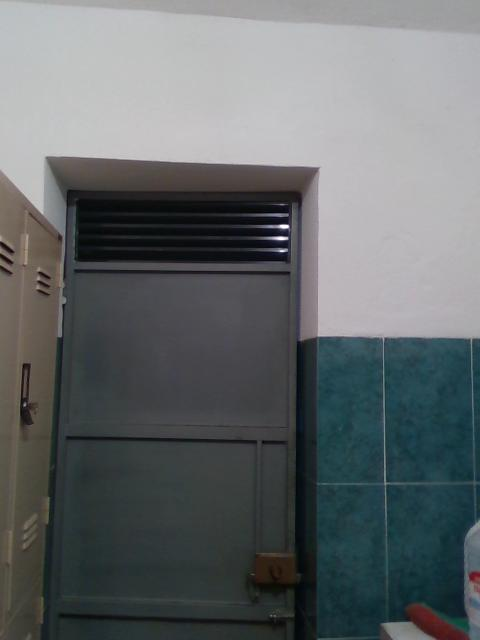door: (53, 186, 299, 640)
